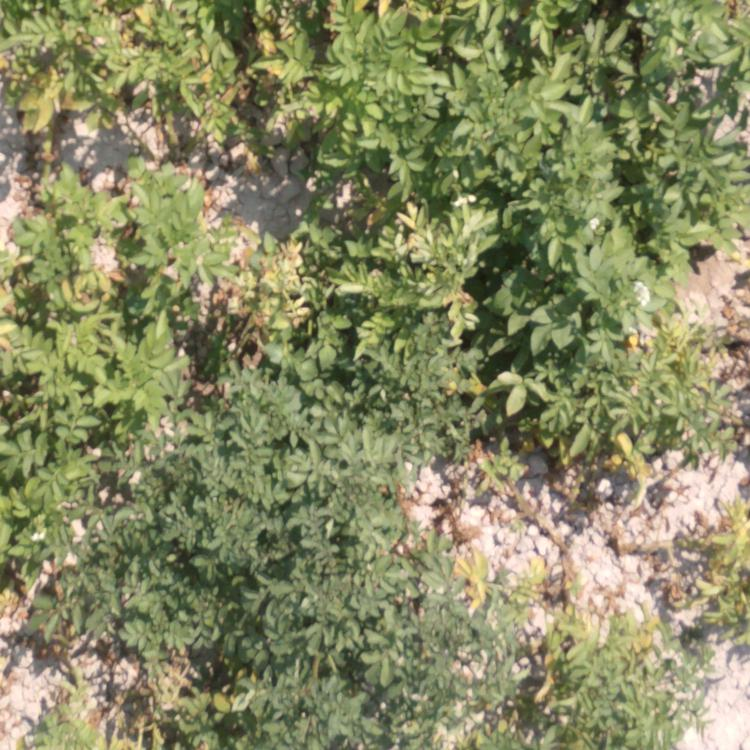healthy: (178, 422, 423, 750), (442, 1, 750, 158), (451, 164, 748, 314)
stressed: (1, 1, 428, 150), (4, 157, 163, 556), (170, 173, 416, 388), (464, 324, 721, 462), (455, 563, 637, 747), (36, 579, 162, 750), (668, 491, 750, 637)
